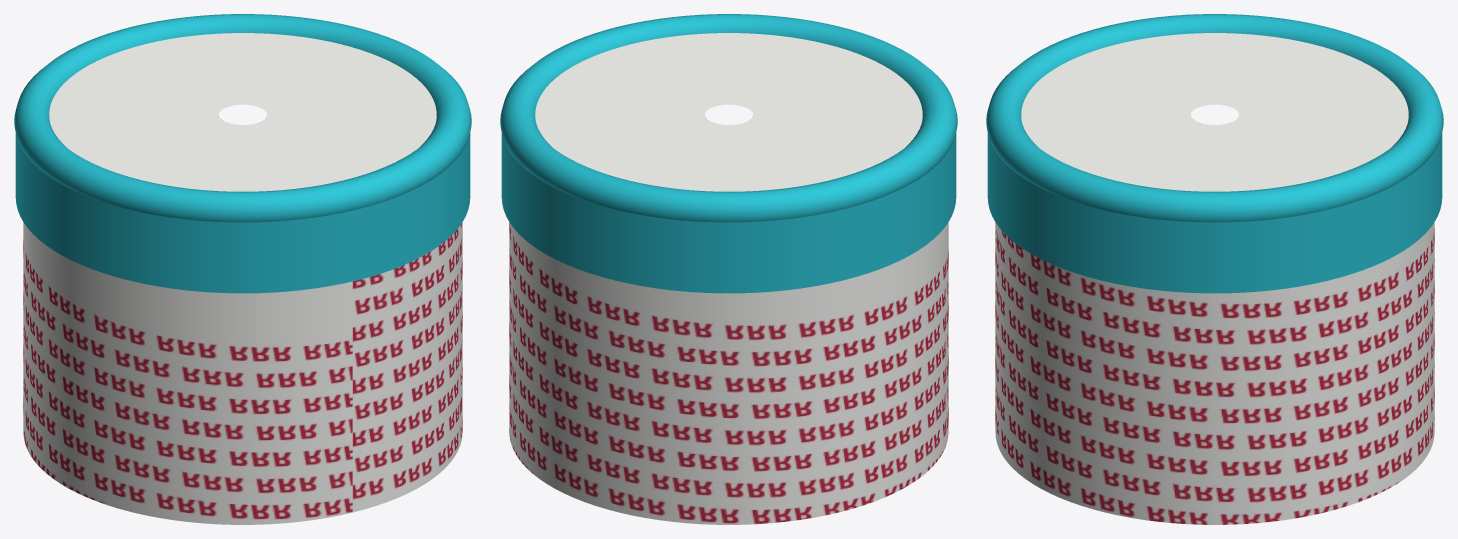
The picture shows the model from 3 angles, left to right: view 1: azimuth 30°, elevation 25°; view 2: azimuth 150°, elevation 25°; view 3: azimuth 270°, elevation 25°; orthographic projection.
Visible parts, largest first — view 1: X50-H114; view 2: X50-H114; view 3: X50-H114.
Part boxes in pixels (x1,y1,x2,y2): X50-H114: (14, 14, 471, 524); X50-H114: (500, 14, 957, 524); X50-H114: (986, 14, 1443, 524).
Size of the model in its own units: 0.149 by 0.1177 by 0.149.
6 materials, 1 textured.
